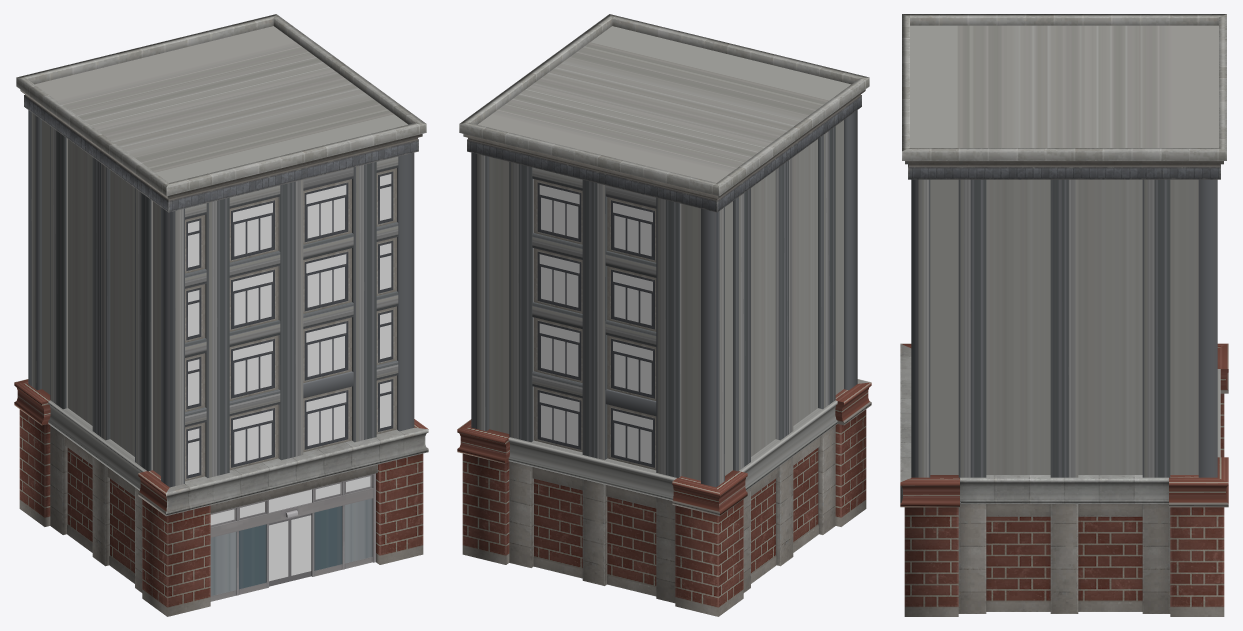
Rendered from objects_un_t06building02.gltf.
3 renders of one model, left to right at view 1: azimuth 30°, elevation 25°; view 2: azimuth 150°, elevation 25°; view 3: azimuth 270°, elevation 25°, orthographic. The views are drawn at different scales.
Parts seen in each view (by area): view 1: nomerge_t06building02_shape:objects_un_t06building02_01, nomerge_t06building02_shape:objects_un_t06building02_02, nomerge_t06building02_shape:objects_un_behind, um_objects_un_t06building02_model_lod0Shape:objects_un_t06bu, nomerge_t06building02_shape:objects_un_t06building02_glass, nomerge_door_r_shape:objects_un_behind, nomerge_door_l_shape:objects_un_behind; view 2: nomerge_t06building02_shape:objects_un_t06building02_01, nomerge_t06building02_shape:objects_un_t06building02_02, nomerge_t06building02_shape:objects_un_behind, um_objects_un_t06building02_model_lod0Shape:objects_un_t06bu; view 3: nomerge_t06building02_shape:objects_un_t06building02_01, nomerge_t06building02_shape:objects_un_t06building02_02.
Part boxes in pixels (box(x1,y1,x2,y2)): nomerge_t06building02_shape:objects_un_t06building02_01: box(14, 14, 428, 616); nomerge_t06building02_shape:objects_un_t06building02_02: box(35, 26, 407, 475); nomerge_t06building02_shape:objects_un_behind: box(188, 174, 391, 525); um_objects_un_t06building02_model_lod0Shape:objects_un_t06bu: box(186, 171, 393, 601); nomerge_t06building02_shape:objects_un_t06building02_glass: box(210, 498, 372, 595); nomerge_door_r_shape:objects_un_behind: box(291, 515, 311, 575); nomerge_door_l_shape:objects_un_behind: box(269, 521, 288, 581); nomerge_t06building02_shape:objects_un_t06building02_01: box(457, 14, 871, 616); nomerge_t06building02_shape:objects_un_t06building02_02: box(478, 26, 850, 480); nomerge_t06building02_shape:objects_un_behind: box(539, 185, 652, 463); um_objects_un_t06building02_model_lod0Shape:objects_un_t06bu: box(537, 182, 654, 467); nomerge_t06building02_shape:objects_un_t06building02_01: box(900, 14, 1228, 616); nomerge_t06building02_shape:objects_un_t06building02_02: box(910, 25, 1218, 474).
Size of what is drawn, in the model's own units: 12.12 by 19 by 12.12.
Materials: 5 (4 with a texture image).
